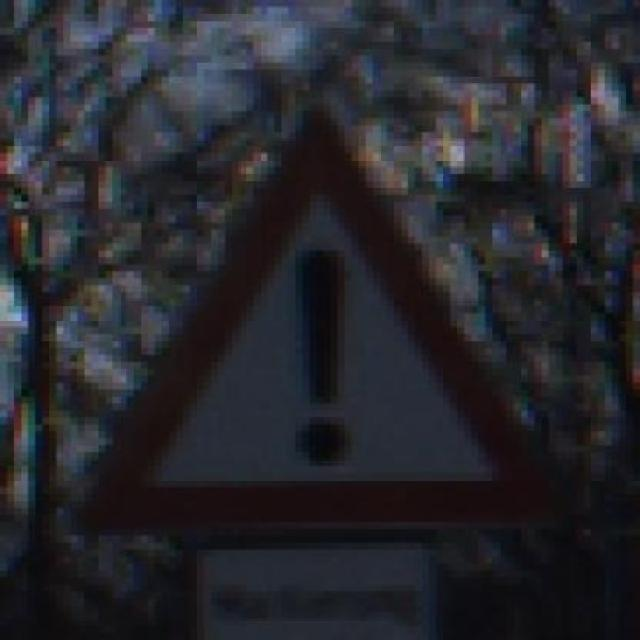Attention Please-: (49, 97, 577, 557)
